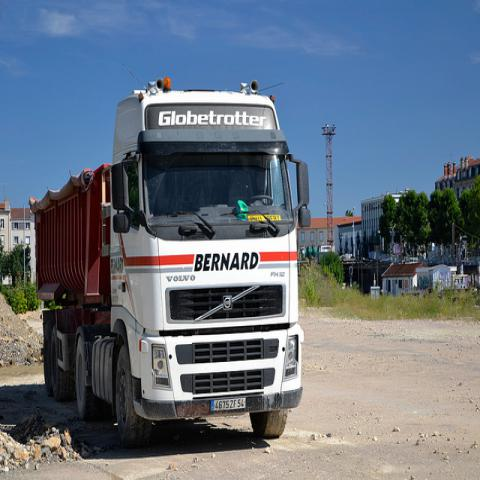truck: (28, 62, 312, 448), (451, 275, 470, 291)
